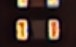COMP: (10, 16, 65, 44)
GAP: (16, 1, 58, 23)
